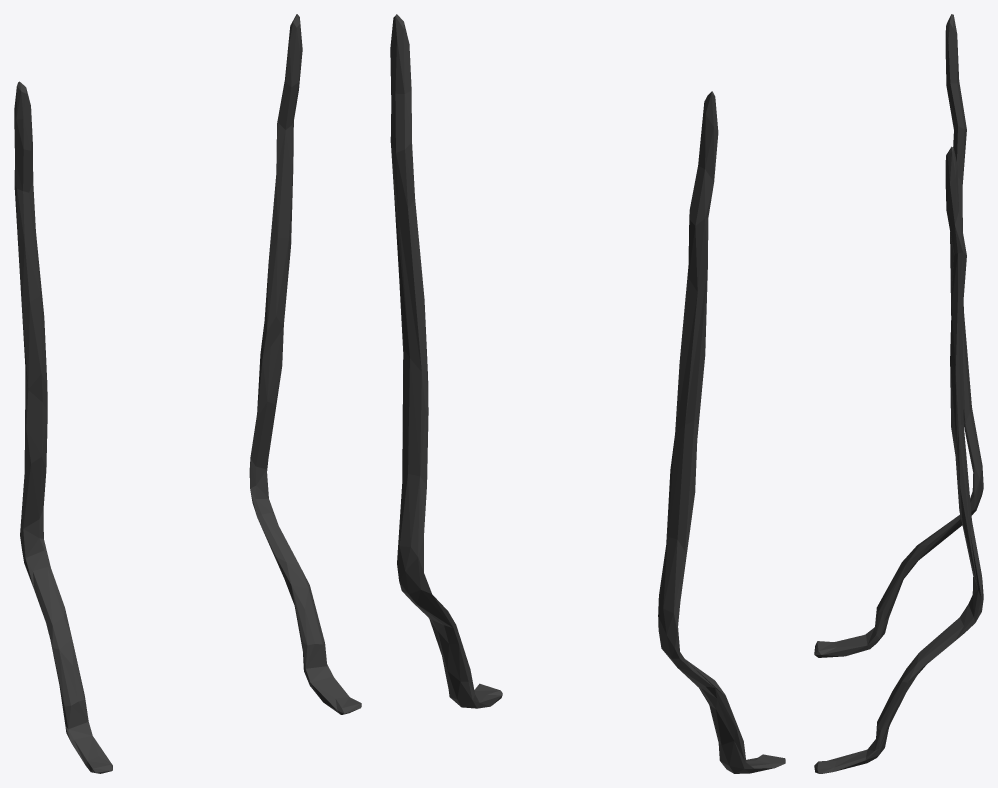
File: tendon_flexor_digitorum_profundus_FL.glb
3 views of the same model, side by side, from view 1: azimuth 30°, elevation 25°; view 2: azimuth 150°, elevation 25°; view 3: azimuth 270°, elevation 25° (orthographic). The views are drawn at different scales.
Parts seen in each view (by area): view 1: tendon_flexor_digitorum_profundus_FL; view 2: tendon_flexor_digitorum_profundus_FL; view 3: tendon_flexor_digitorum_profundus_FL.
Part boxes in pixels (<box>): tendon_flexor_digitorum_profundus_FL: <box>14,14,361,773</box>; tendon_flexor_digitorum_profundus_FL: <box>390,14,785,773</box>; tendon_flexor_digitorum_profundus_FL: <box>814,14,983,773</box>.
Bounding box in the file's own units: 0.0039 × 0.00842 × 0.00204.
Materials: 1 (1 with a texture image).
